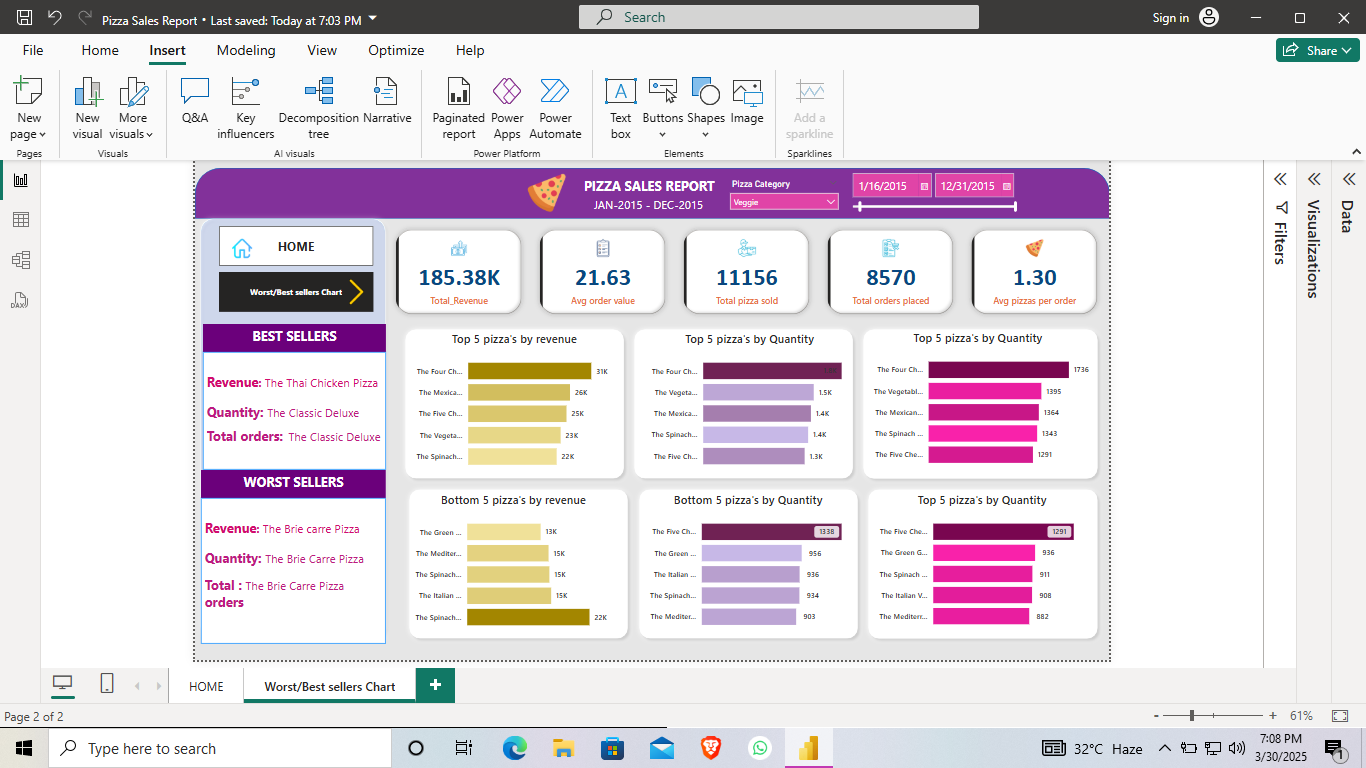

The dashboard page shown, as its layout file describes it:
{"tool":"powerbi","page":{"name":"Worst/Best sellers Chart","canvas":[1500,820],"ordinal":1},"visuals":[{"type":"cardVisual","fields":{"Data":["pizza_sales.total_revenue","pizza_sales.Avg_order_value","pizza_sales.Total pizza sold","pizza_sales.total_orders_placed","pizza_sales.Avg pizzas per order"]},"box":[313.3,98.3,1186.7,170],"z":0},{"type":"shape","box":[0,12.7,1500,83.1],"z":1000},{"type":"textbox","box":[621.7,23.3,246.7,43.3],"z":2000},{"type":"textbox","box":[635,55,218.3,43.3],"z":3000},{"type":"image","box":[531.7,16.7,90,75],"z":4000},{"type":"shape","box":[0,86.9,321.4,706.8],"z":5000},{"type":"textbox","box":[13.1,269,300.1,45.9],"z":6000},{"type":"textbox","box":[12.7,314.5,300,193.4],"z":7000},{"type":"textbox","box":[9.8,508.4,303.4,45.9],"z":8000},{"type":"textbox","box":[9.8,554.3,303.4,239.4],"z":9000},{"type":"slicer","fields":{"Values":["pizza_sales.pizza_category"]},"box":[867.6,26.2,198.4,72.2],"z":10000},{"type":"slicer","fields":{"Values":["pizza_sales.order_date"]},"box":[1066.3,14.5,294.6,84.9],"z":11000},{"type":"shape","box":[336.1,269.3,375.9,262],"z":12000},{"type":"shape","box":[343.4,531.3,375.9,262],"z":13000},{"type":"shape","box":[712,269.3,375.9,262],"z":14000},{"type":"shape","box":[1087.3,269,401.8,262.4],"z":15000},{"type":"shape","box":[719.3,531.3,375.9,262],"z":16000},{"type":"shape","box":[1095.5,531.4,393.6,262.4],"z":17000},{"type":"barChart","title":"Top 5 pizza''s by revenue","fields":{"Category":["pizza_sales.pizza_name"],"Y":["pizza_sales.Total_Revenue"]},"box":[346,280.4,355.9,239.4],"z":18000},{"type":"barChart","title":"Bottom 5 pizza''s by revenue","fields":{"Category":["pizza_sales.pizza_name"],"Y":["pizza_sales.Total_Revenue"]},"box":[345.2,544,356,238.6],"z":19000},{"type":"barChart","title":"Top 5 pizza''s by Quantity","fields":{"Category":["pizza_sales.pizza_name"],"Y":["pizza_sales.Total pizza sold"]},"box":[731.9,280.1,356,238.6],"z":20000},{"type":"barChart","title":"Bottom 5 pizza''s by Quantity","fields":{"Category":["pizza_sales.pizza_name"],"Y":["pizza_sales.Total pizza sold"]},"box":[727.3,543.8,358,237.9],"z":21000},{"type":"barChart","title":"Top 5 pizza''s by Quantity","fields":{"Category":["pizza_sales.pizza_name"],"Y":["pizza_sales.Total orders placed"]},"box":[1097.2,278.8,373.9,237.8],"z":22000},{"type":"barChart","title":"Top 5 pizza''s by Quantity","fields":{"Category":["pizza_sales.pizza_name"],"Y":["pizza_sales.Total orders placed"]},"box":[1104.2,544,374.1,236.7],"z":23000},{"type":"pageNavigator","box":[39.8,108.4,253,65.1],"z":23001},{"type":"pageNavigator","box":[39.8,184.3,253,65.1],"z":23002},{"type":"image","box":[238.6,189.8,54.2,52.4],"z":23003},{"type":"image","box":[56,115.7,43.4,57.8],"z":23004}]}

Visuals, with their boxes on the page's 1500x820 design canvas (x1, y1, x2, y2). These are canvas units, not pixel positions in the 1366x768 screenshot, which may show the page scaled, cropped or inside an application window:
cardVisual - pizza_sales.total_revenue x pizza_sales.Avg_order_value: BBox(313, 98, 1500, 268)
shape: BBox(0, 13, 1500, 96)
textbox: BBox(622, 23, 868, 67)
textbox: BBox(635, 55, 853, 98)
image: BBox(532, 17, 622, 92)
shape: BBox(0, 87, 321, 794)
textbox: BBox(13, 269, 313, 315)
textbox: BBox(13, 314, 313, 508)
textbox: BBox(10, 508, 313, 554)
textbox: BBox(10, 554, 313, 794)
slicer - pizza_sales.pizza_category: BBox(868, 26, 1066, 98)
slicer - pizza_sales.order_date: BBox(1066, 14, 1361, 99)
shape: BBox(336, 269, 712, 531)
shape: BBox(343, 531, 719, 793)
shape: BBox(712, 269, 1088, 531)
shape: BBox(1087, 269, 1489, 531)
shape: BBox(719, 531, 1095, 793)
shape: BBox(1096, 531, 1489, 794)
"Top 5 pizza''s by revenue" barChart: BBox(346, 280, 702, 520)
"Bottom 5 pizza''s by revenue" barChart: BBox(345, 544, 701, 783)
"Top 5 pizza''s by Quantity" barChart: BBox(732, 280, 1088, 519)
"Bottom 5 pizza''s by Quantity" barChart: BBox(727, 544, 1085, 782)
"Top 5 pizza''s by Quantity" barChart: BBox(1097, 279, 1471, 517)
"Top 5 pizza''s by Quantity" barChart: BBox(1104, 544, 1478, 781)
pageNavigator: BBox(40, 108, 293, 174)
pageNavigator: BBox(40, 184, 293, 249)
image: BBox(239, 190, 293, 242)
image: BBox(56, 116, 99, 174)
